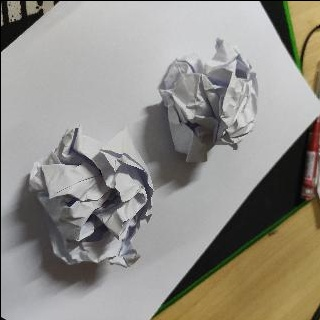8/可回收垃圾/纸: (28, 122, 154, 269), (157, 36, 260, 164)
